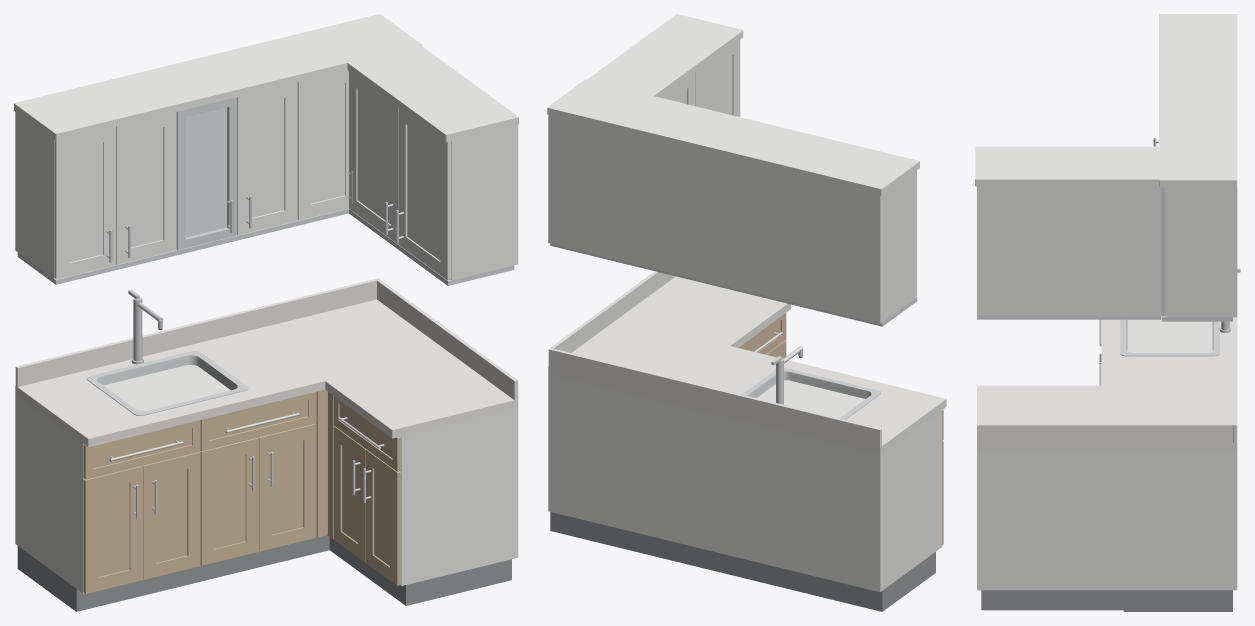
3 renders of one model, left to right at view 1: azimuth 30°, elevation 25°; view 2: azimuth 150°, elevation 25°; view 3: azimuth 270°, elevation 25°, orthographic. The views are drawn at different scales.
Visible parts, largest first — view 1: Tủ bếp chữ L Dài cạnh chính=1800; Dài cạnh phụ=1200; Sâu tủ ; view 2: Tủ bếp chữ L Dài cạnh chính=1800; Dài cạnh phụ=1200; Sâu tủ ; view 3: Tủ bếp chữ L Dài cạnh chính=1800; Dài cạnh phụ=1200; Sâu tủ .
Boxes of the visible parts, x1=… form: Tủ bếp chữ L Dài cạnh chính=1800; Dài cạnh phụ=1200; Sâu tủ : x1=14, y1=14, x2=518, y2=611; Tủ bếp chữ L Dài cạnh chính=1800; Dài cạnh phụ=1200; Sâu tủ : x1=547, y1=14, x2=946, y2=611; Tủ bếp chữ L Dài cạnh chính=1800; Dài cạnh phụ=1200; Sâu tủ : x1=975, y1=14, x2=1240, y2=611.
Bounding box in the file's own units: 1.82 × 2.2 × 1.22.
